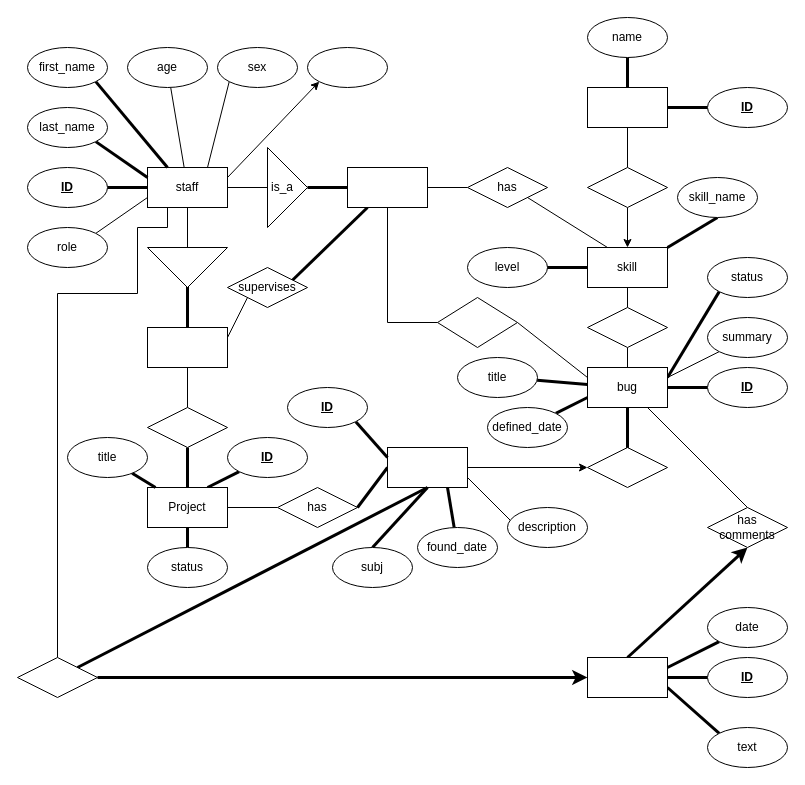
The diagram is 805 pixels wide and 785 high, and some of its shapes have lost their labels. The centre of each missing label's shape, as x and y in pixels:
"autor" belongs at [57,677].
"bug_repot" belongs at [427,467].
"comment" belongs at [627,677].
"defined as" belongs at [627,467].
"Dev" belongs at [387,187].
"is a" belongs at [187,267].
"is assigend to" belongs at [477,322].
"Manager" belongs at [187,347].
"manages" belongs at [187,427].
"part_of" belongs at [627,187].
"reports to" belongs at [347,67].
"requires" belongs at [627,327].
"tech" belongs at [627,107].
